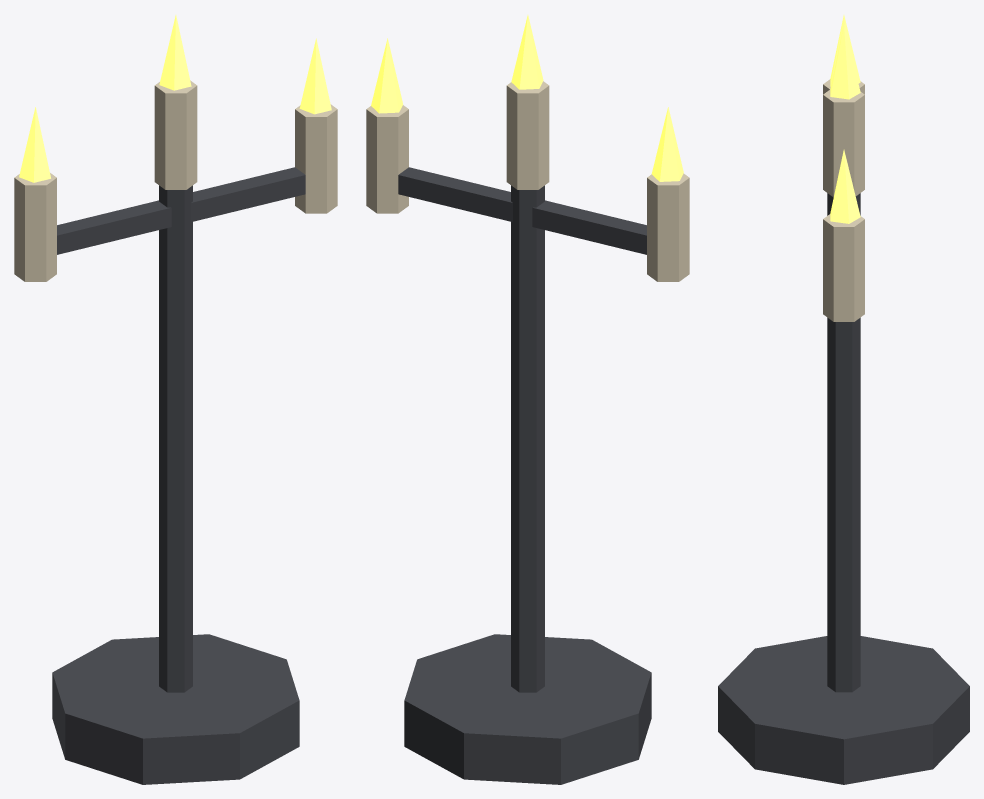
File: CT_ENV_Candelabra.fbx
The picture shows the model from 3 angles, left to right: view 1: azimuth 30°, elevation 25°; view 2: azimuth 150°, elevation 25°; view 3: azimuth 270°, elevation 25°; orthographic projection.
Parts seen in each view (by area): view 1: CT_ENV_Candelabra; view 2: CT_ENV_Candelabra; view 3: CT_ENV_Candelabra.
Part boxes in pixels (<box>): CT_ENV_Candelabra: <box>14,15,337,784</box>; CT_ENV_Candelabra: <box>366,15,689,784</box>; CT_ENV_Candelabra: <box>718,15,969,784</box>.
Bounding box in the file's own units: 0.8466 × 1.86 × 0.6.
